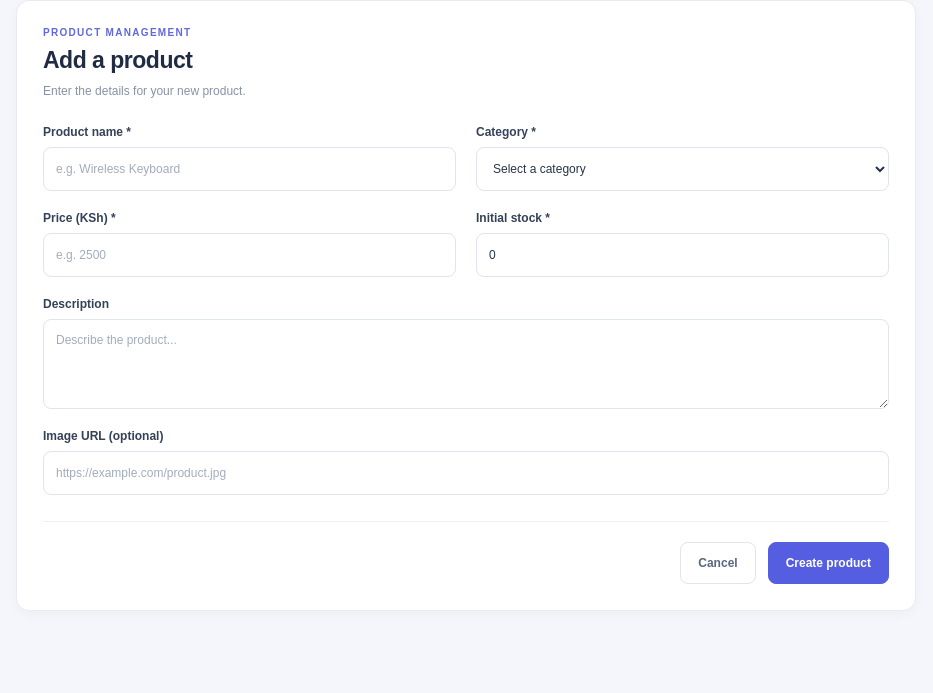
Test: ProductForm component › rejects an empty product name
Select "Electronics" in the dropdown labelled "Category *" at {"x": 682, "y": 169}, box [476, 147, 889, 191]
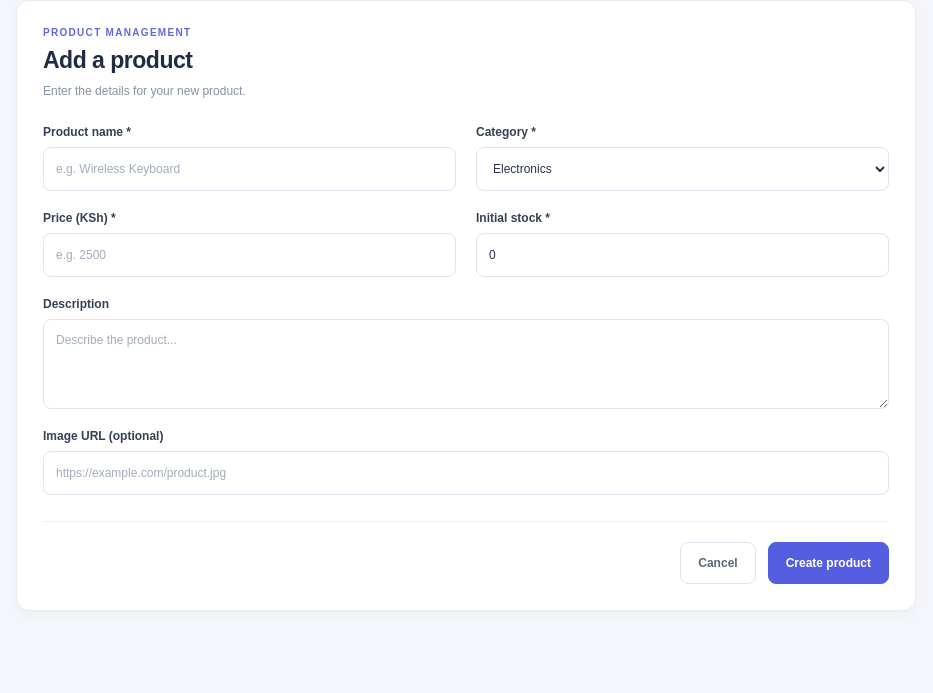
Type "2500" into the number field labelled "Price (KSh) *".
click(250, 255); type("2500")  # box [43, 233, 456, 277]
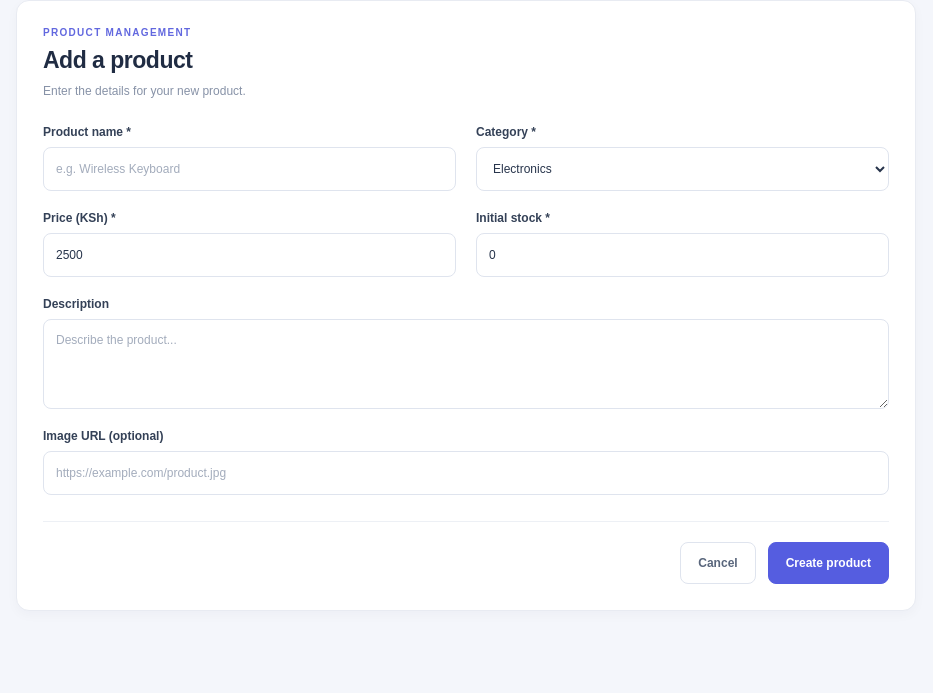
Submit the form labelled "Product name"
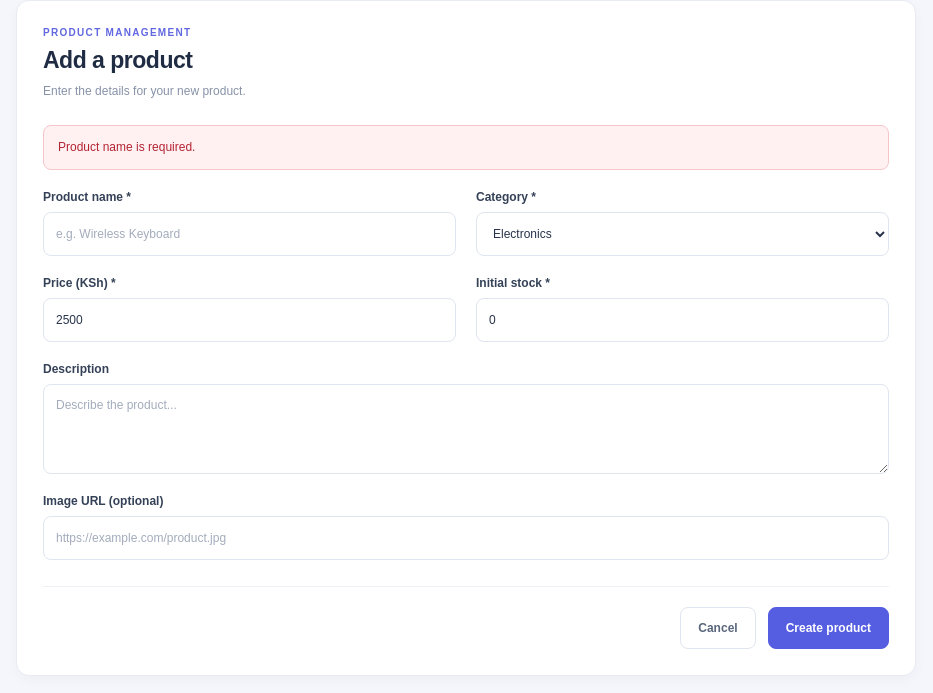
Expected: the message reads "Product name is required.", [58, 140, 195, 154]
